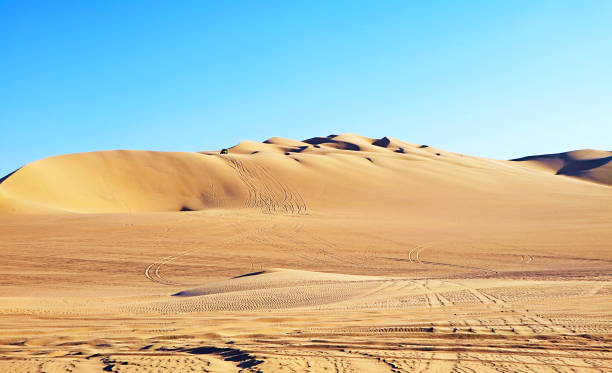vehicle_track: (223, 156, 306, 213), (389, 242, 497, 273), (144, 248, 201, 285)
